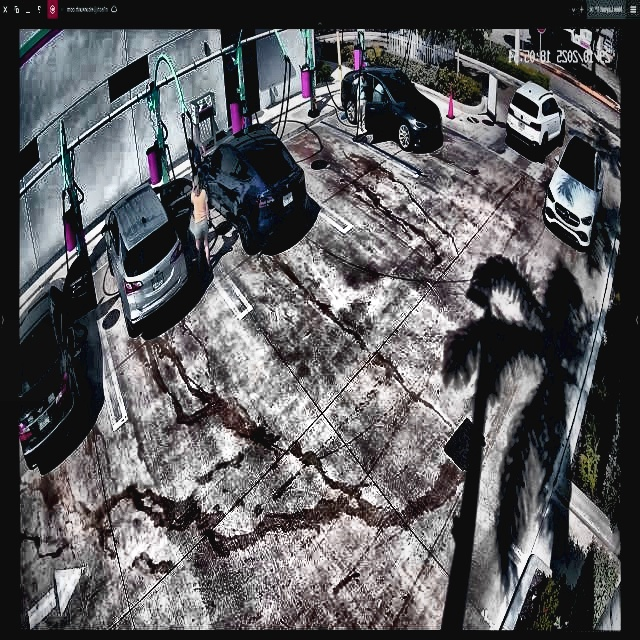Car: (198, 118, 308, 258), (106, 175, 191, 335), (341, 64, 441, 160), (506, 85, 566, 156)
